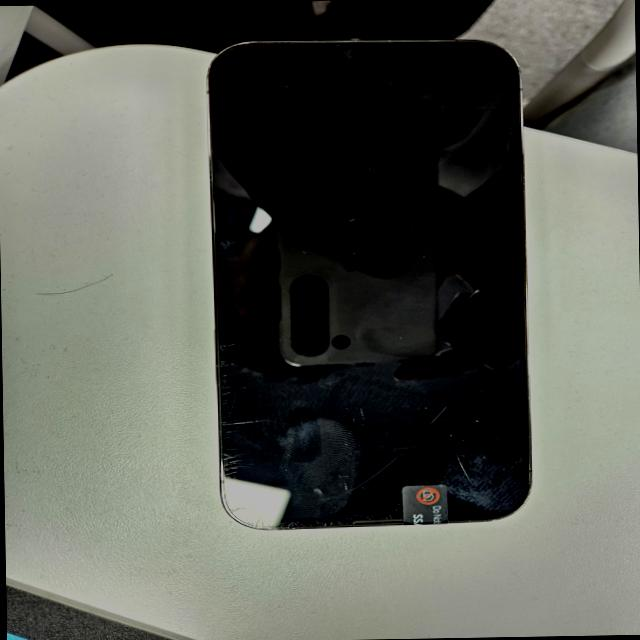phone: (208, 33, 532, 534)
sticker: (398, 484, 447, 525)
